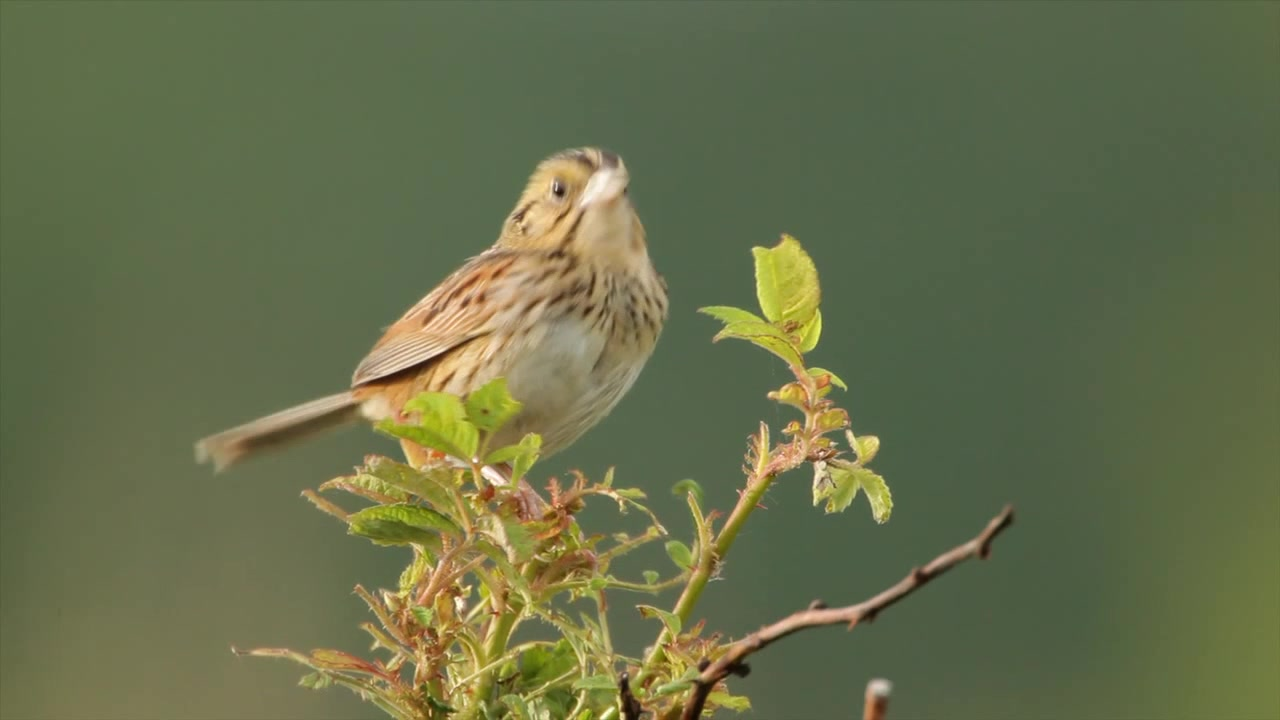bird: (187, 143, 679, 509)
